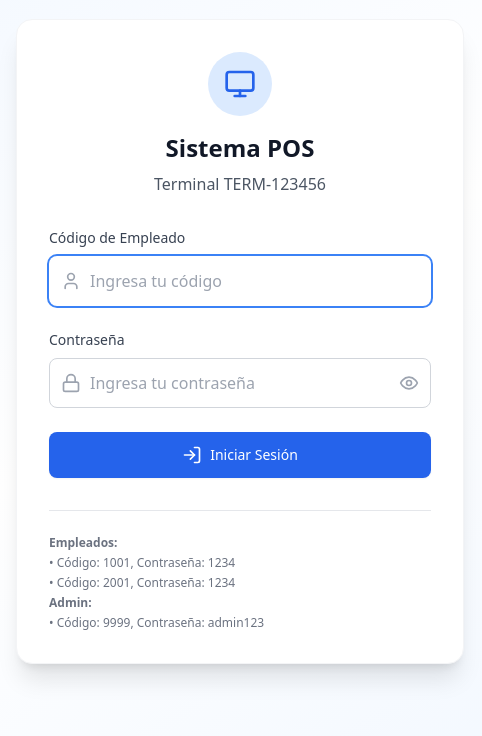
Test: Login Component › muestra error cuando los campos están vacíos
Click the button "Iniciar Sesión": [240, 454] box [49, 432, 431, 478]
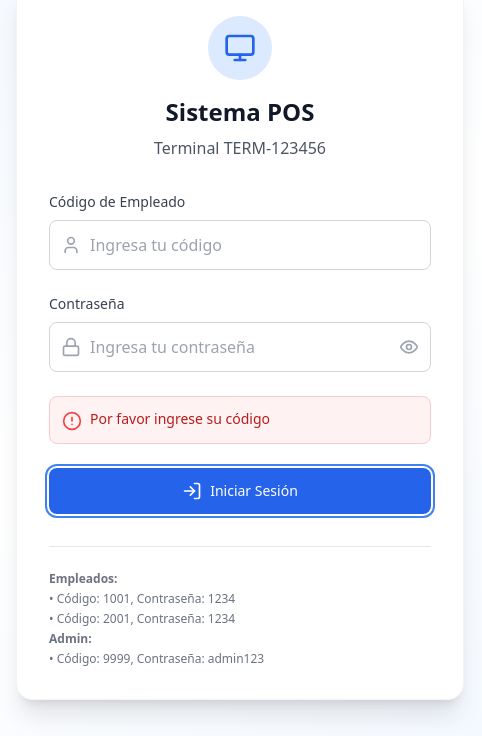
Result: the text "Por favor ingrese su código" is shown at [90, 408, 270, 428]
